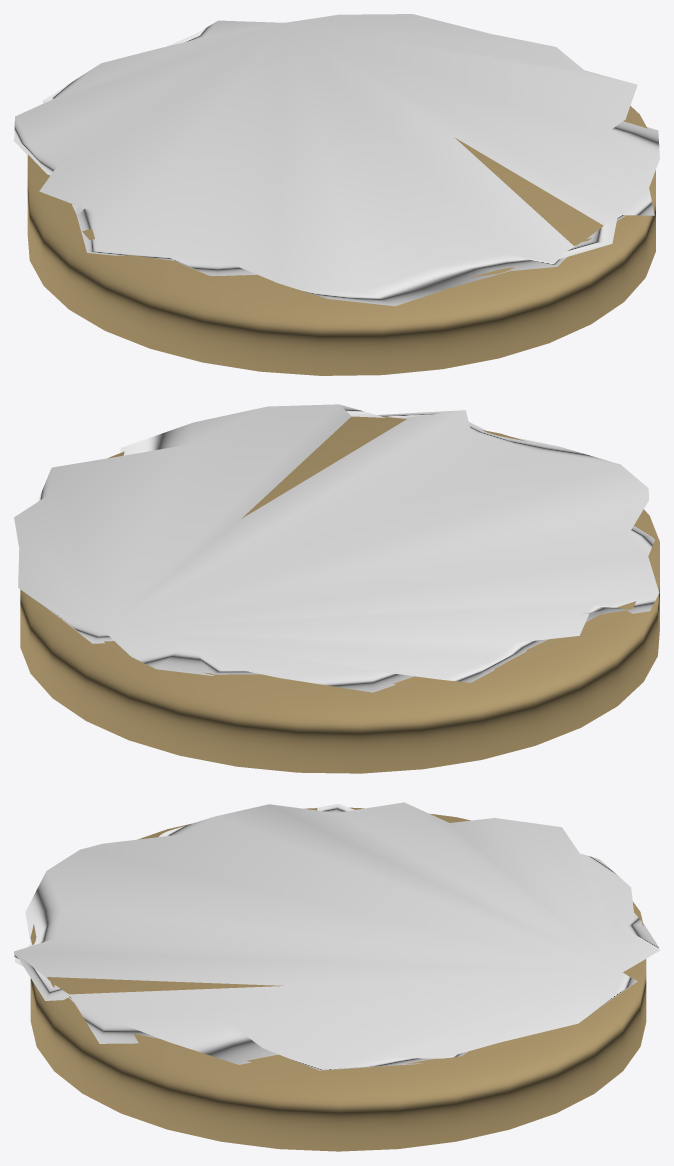
The model's file is cake_half_with_whippedcream.fbx.
The picture shows the model from 3 angles, top to bottom: view 1: azimuth 30°, elevation 25°; view 2: azimuth 150°, elevation 25°; view 3: azimuth 270°, elevation 25°; orthographic projection. The views are drawn at different scales.
Visible parts, largest first — view 1: Cylinder; view 2: Cylinder; view 3: Cylinder.
Part boxes in pixels (box(x1,y1,x2,y2)): Cylinder: box(14, 14, 659, 375); Cylinder: box(14, 404, 659, 773); Cylinder: box(14, 802, 659, 1151).
Size of the model in its own units: 209 by 35.05 by 210.
